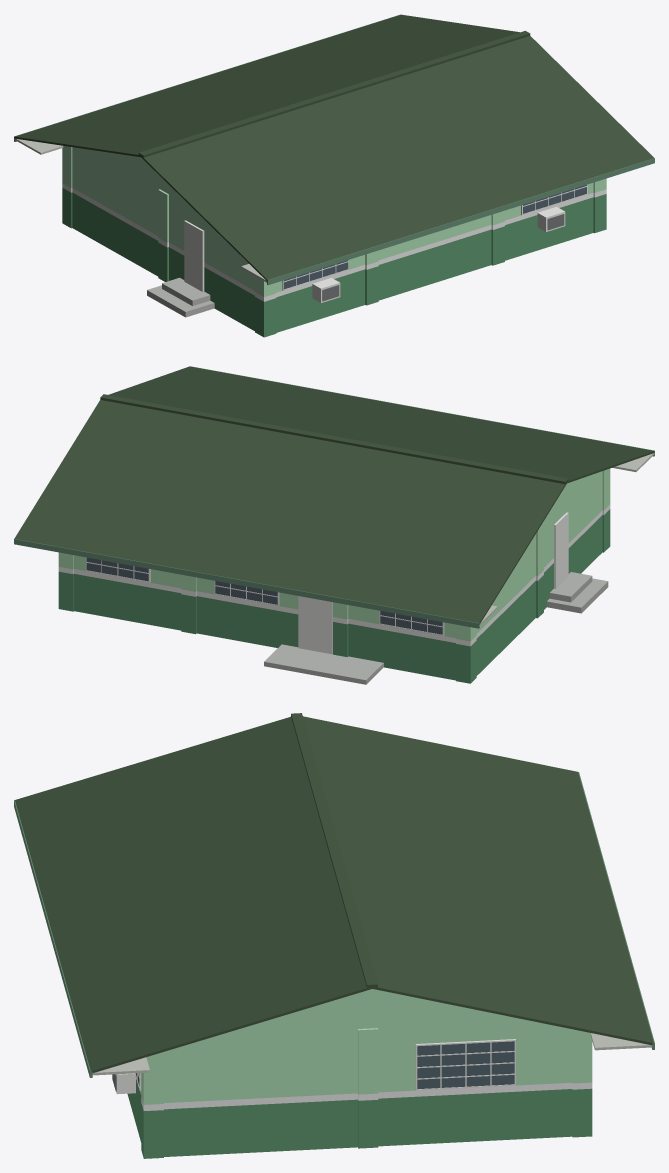
File: rares_staff_house_b.glb
The picture shows the model from 3 angles, top to bottom: view 1: azimuth 30°, elevation 25°; view 2: azimuth 150°, elevation 25°; view 3: azimuth 270°, elevation 25°; orthographic projection. The views are drawn at different scales.
Visible parts, largest first — view 1: Roof_Slope_S, Roof_Slope_N, Wall_Dado, Wall_Upper, Roof_Ridge, Fascia_S, Wall_Stripe, West_Door, Gable_Walls, West_Step_1, Pilaster_0_d, West_Step_2 (+6 smaller); view 2: Roof_Slope_N, Roof_Slope_S, Wall_Dado, Wall_Upper, Roof_Ridge, Fascia_N, Front_Porch_Slab, Wall_Stripe, Front_Door_Leaf, West_Door, West_Step_1, Front_Win_E_g (+8 smaller); view 3: Roof_Slope_S, Roof_Slope_N, Wall_Upper, Wall_Dado, Gable_Walls, East_Win_N_g, Roof_Ridge, Wall_Stripe, Pilaster_5_m, Pilaster_1_d, Pilaster_3_m, Pilaster_1_m (+3 smaller).
Part boxes in pixels (x1,y1,x2,y2): Roof_Slope_S: [141, 36, 653, 281]; Roof_Slope_N: [14, 14, 519, 157]; Wall_Dado: [72, 192, 593, 332]; Wall_Upper: [72, 147, 593, 292]; Roof_Ridge: [138, 30, 530, 157]; Fascia_S: [267, 158, 654, 285]; Wall_Stripe: [72, 188, 593, 297]; West_Door: [184, 220, 204, 291]; Gable_Walls: [89, 149, 192, 208]; West_Step_1: [147, 285, 214, 317]; Pilaster_0_d: [255, 297, 276, 337]; West_Step_2: [162, 277, 210, 306]; Roof_Slope_N: [14, 400, 566, 624]; Roof_Slope_S: [108, 366, 654, 483]; Wall_Dado: [74, 515, 602, 680]; Wall_Upper: [74, 471, 602, 638]; Roof_Ridge: [100, 394, 568, 484]; Fascia_N: [14, 539, 479, 628]; Front_Porch_Slab: [264, 644, 383, 684]; Wall_Stripe: [74, 510, 602, 642]; Front_Door_Leaf: [300, 596, 330, 653]; West_Door: [554, 512, 568, 588]; West_Step_1: [547, 578, 608, 613]; Front_Win_E_g: [86, 557, 148, 581]; Roof_Slope_S: [15, 716, 372, 1072]; Roof_Slope_N: [303, 716, 653, 1045]; Wall_Upper: [164, 1020, 572, 1102]; Wall_Dado: [127, 1078, 572, 1156]; Gable_Walls: [214, 989, 529, 1036]; East_Win_N_g: [417, 1041, 514, 1089]; Roof_Ridge: [291, 713, 377, 988]; Wall_Stripe: [140, 1082, 572, 1109]; Pilaster_5_m: [358, 1028, 378, 1094]; Pilaster_1_d: [141, 1103, 163, 1158]; Pilaster_3_m: [572, 1029, 592, 1083]; Pilaster_1_m: [141, 1052, 163, 1104].
Size of the model in its own units: 15.48 by 4.3 by 13.99.
